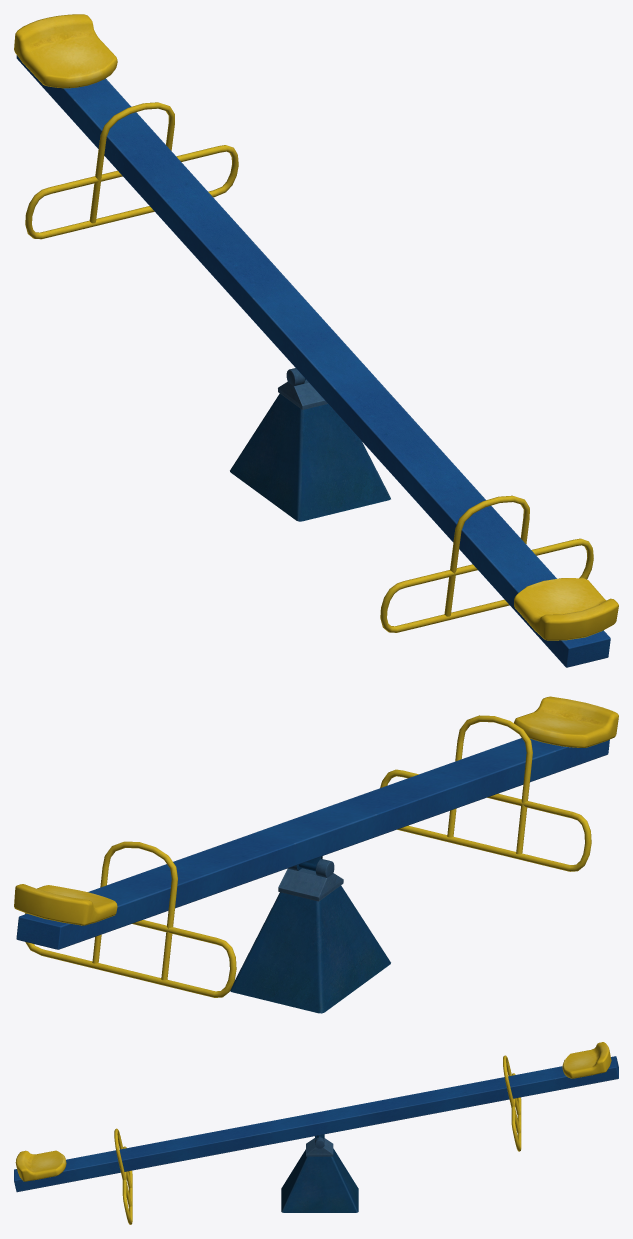
Rendered from Teeter_Totter.glb.
The picture shows the model from 3 angles, top to bottom: view 1: azimuth 30°, elevation 25°; view 2: azimuth 150°, elevation 25°; view 3: azimuth 270°, elevation 25°; orthographic projection. The views are drawn at different scales.
Parts seen in each view (by area): view 1: Teeter_Totter__LOD3; view 2: Teeter_Totter__LOD3; view 3: Teeter_Totter__LOD3.
Boxes of the visible parts, x1,y1,x2,y2 form: Teeter_Totter__LOD3: [14, 14, 618, 667]; Teeter_Totter__LOD3: [14, 696, 618, 1013]; Teeter_Totter__LOD3: [14, 1042, 618, 1224].
Bounding box in the file's own units: 1.56 × 1.93 × 7.03.
Materials: 1 (1 with a texture image).
